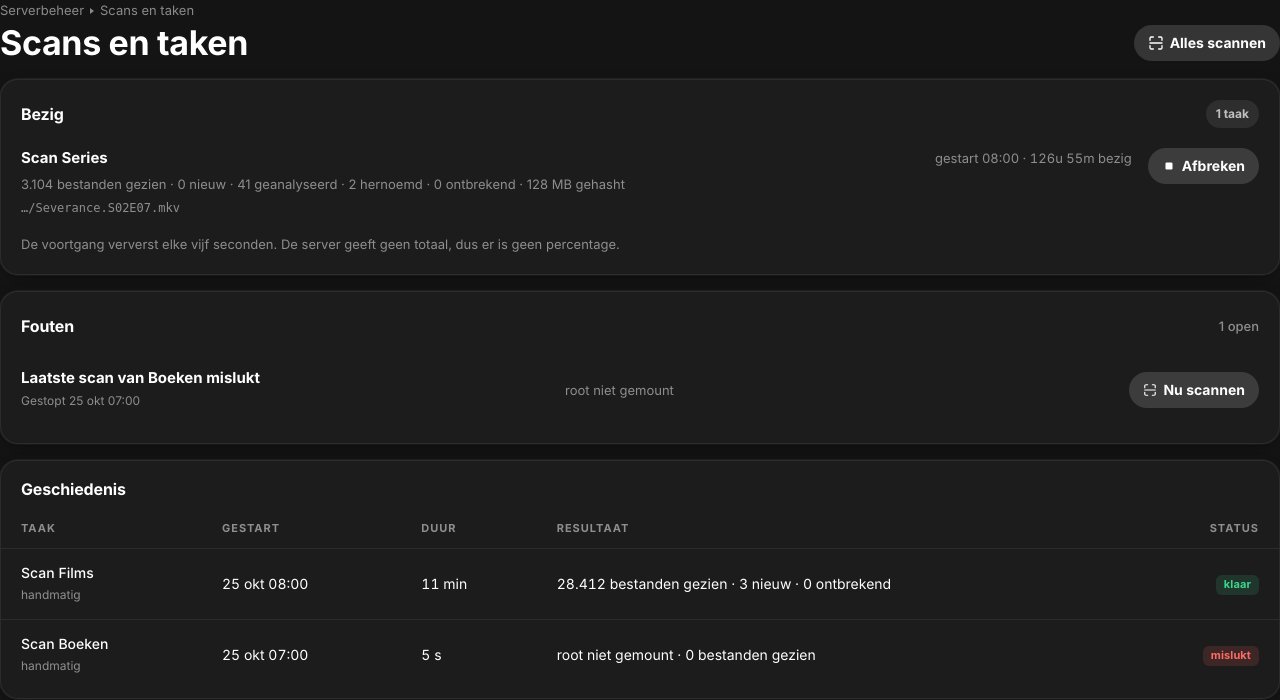
Scenario: scherm 25, wat er loopt › breekt af via de job van de scan, zonder bevestiging, en meldt dat hij stopt
Click the button with aria-label "Scan Series afbreken" at (1203, 166), box [1148,148,1259,184]
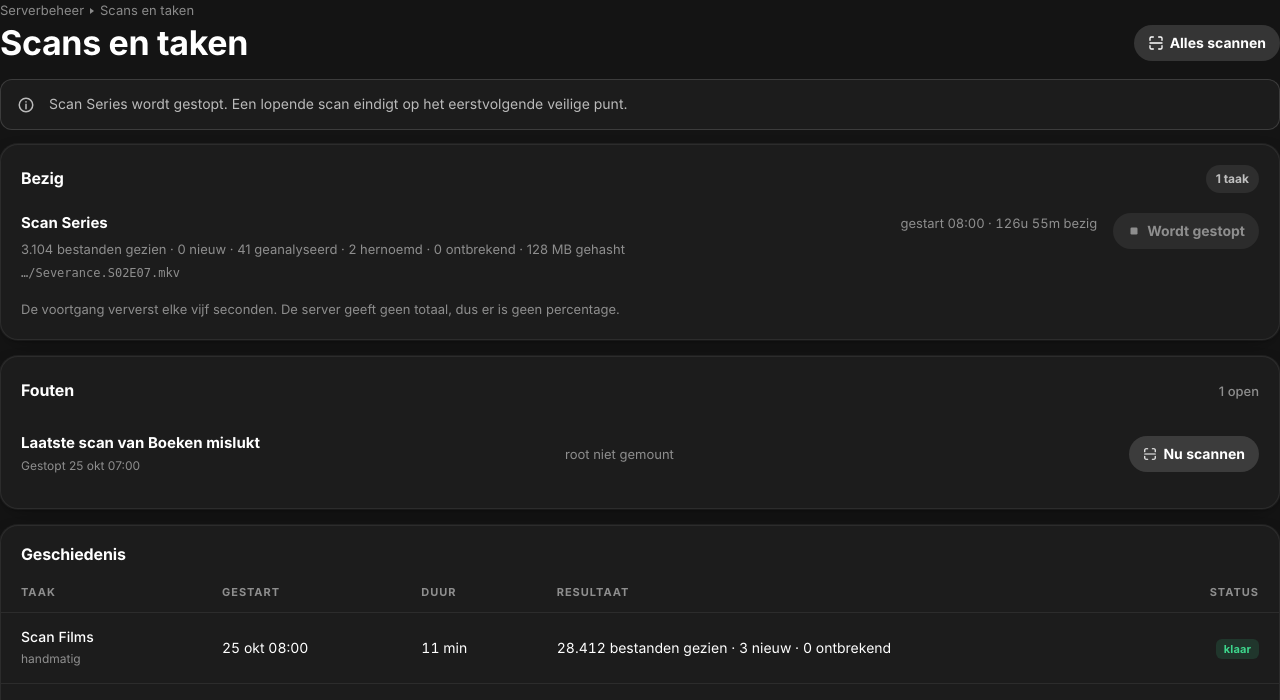
Expected: the text "Scan Series wordt gestopt" is shown, [49,95,628,112]
Expected: the button with aria-label "Scan Series afbreken" is disabled, [1113,213,1259,249]
